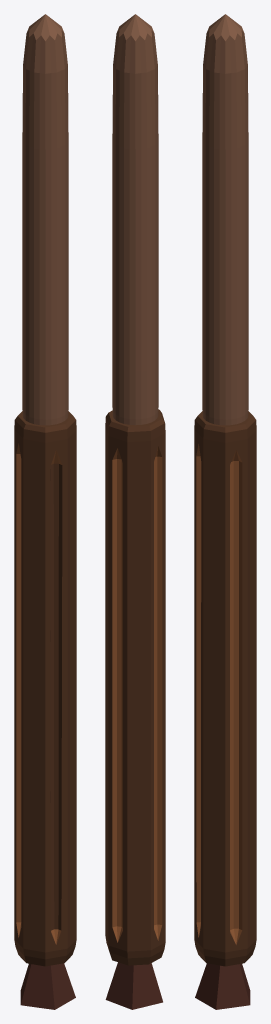
Rendered from Wand 518.glb.
The picture shows the model from 3 angles, left to right: view 1: azimuth 90°, elevation 25°; view 2: azimuth 210°, elevation 25°; view 3: azimuth 270°, elevation 25°; orthographic projection.
Visible parts, largest first — view 1: GeneratedWand; view 2: GeneratedWand; view 3: GeneratedWand.
Part boxes in pixels (left/top/right/bottom): GeneratedWand: left=14, top=14, right=76, bottom=1009; GeneratedWand: left=105, top=14, right=165, bottom=1009; GeneratedWand: left=194, top=14, right=256, bottom=1009.
Bounding box in the file's own units: 0.0289 × 0.5025 × 0.0289.
